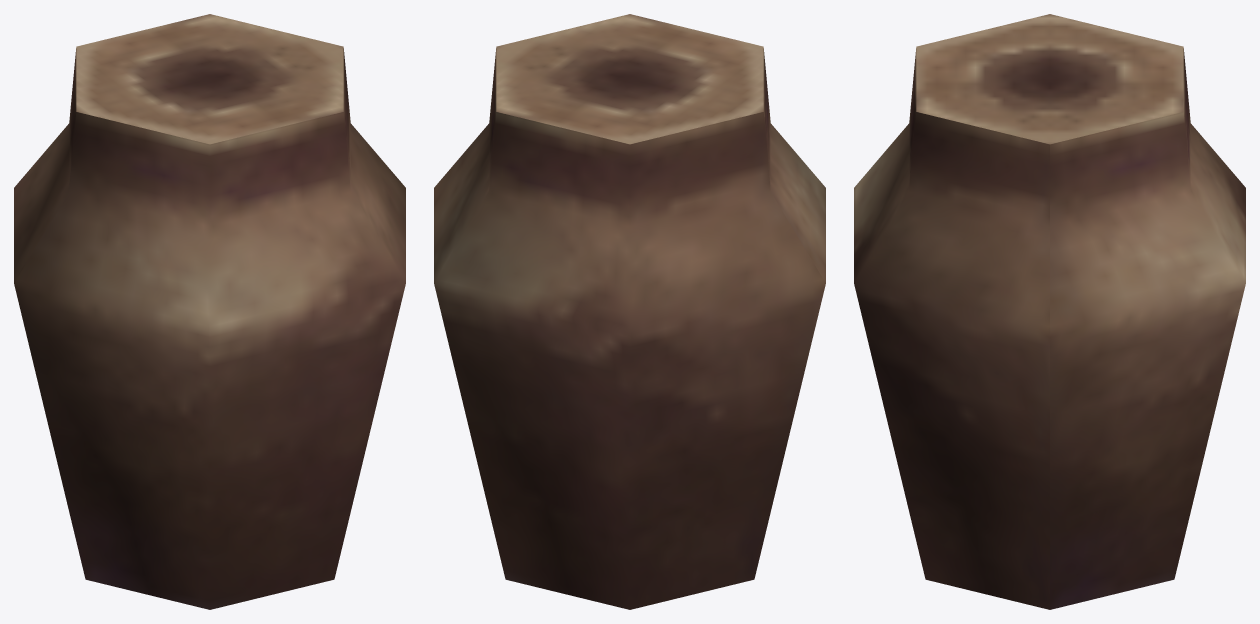
Rendered from common_city_guanzi02.FBX.
3 views of the same model, side by side, from view 1: azimuth 30°, elevation 25°; view 2: azimuth 150°, elevation 25°; view 3: azimuth 270°, elevation 25° (orthographic).
Parts seen in each view (by area): view 1: common_city_guanzi02; view 2: common_city_guanzi02; view 3: common_city_guanzi02.
Part boxes in pixels (bbox=[...]): common_city_guanzi02: bbox=[14, 14, 405, 609]; common_city_guanzi02: bbox=[434, 14, 825, 609]; common_city_guanzi02: bbox=[854, 14, 1245, 609].
Bounding box in the file's own units: 73.56 × 84.29 × 63.7.
